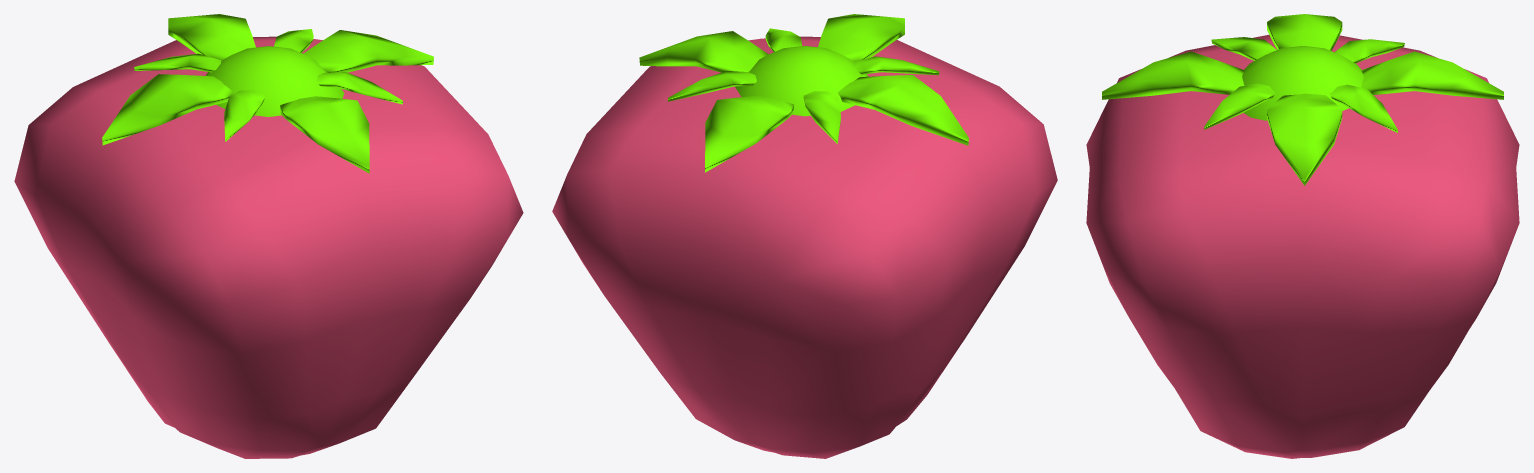
Rendered from ToyObject_168.fbx.
3 renders of one model, left to right at view 1: azimuth 30°, elevation 25°; view 2: azimuth 150°, elevation 25°; view 3: azimuth 270°, elevation 25°, orthographic.
Parts seen in each view (by area): view 1: object-1.067; view 2: object-1.067; view 3: object-1.067.
Boxes of the visible parts, <box> form: object-1.067: <box>14,14,523,458</box>; object-1.067: <box>552,14,1057,458</box>; object-1.067: <box>1086,14,1519,458</box>.
Size of the model in its own units: 0.0949 by 0.0936 by 0.0948.
